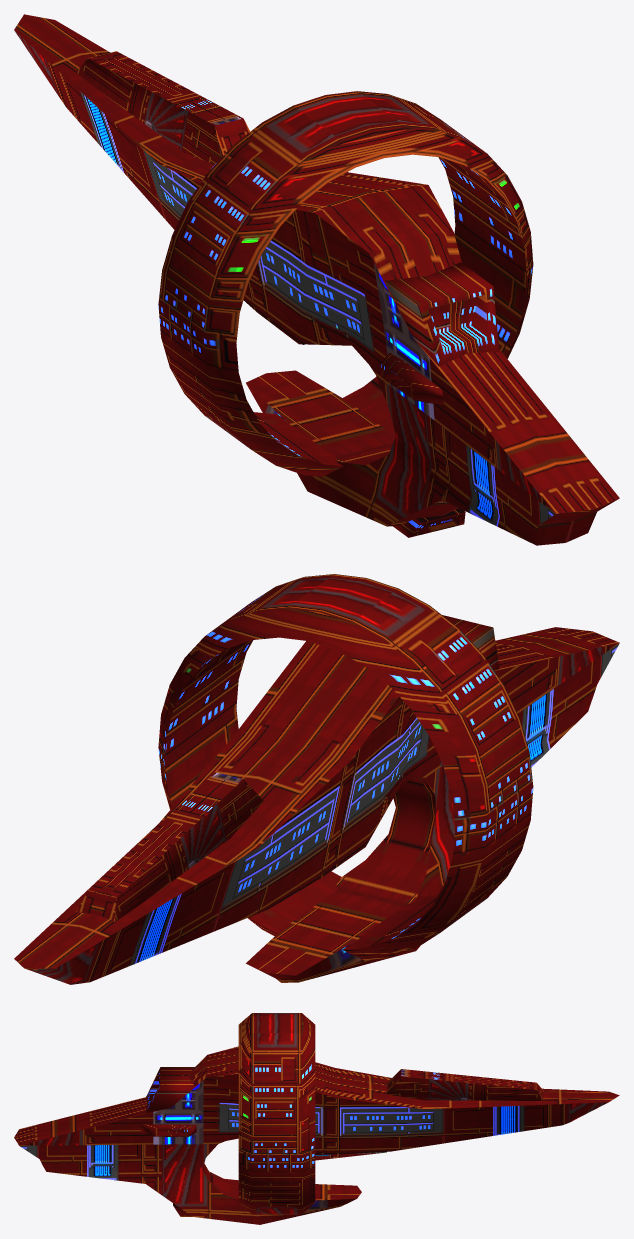
The model's file is Vul_Sovar.fbx.
3 renders of one model, top to bottom at view 1: azimuth 30°, elevation 25°; view 2: azimuth 150°, elevation 25°; view 3: azimuth 270°, elevation 25°, orthographic. The views are drawn at different scales.
Parts seen in each view (by area): view 1: Vul_Sovar; view 2: Vul_Sovar; view 3: Vul_Sovar.
Boxes of the visible parts, x1=… form: Vul_Sovar: x1=14, y1=14, x2=619, y2=545; Vul_Sovar: x1=14, y1=574, x2=619, y2=984; Vul_Sovar: x1=14, y1=1013, x2=619, y2=1224.
Size of the model in its own units: 127 by 131 by 380.
1 material, 1 textured.
